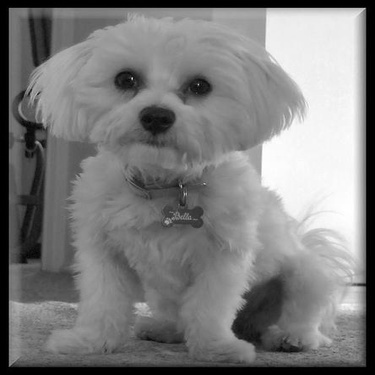dog: (14, 9, 361, 366)
